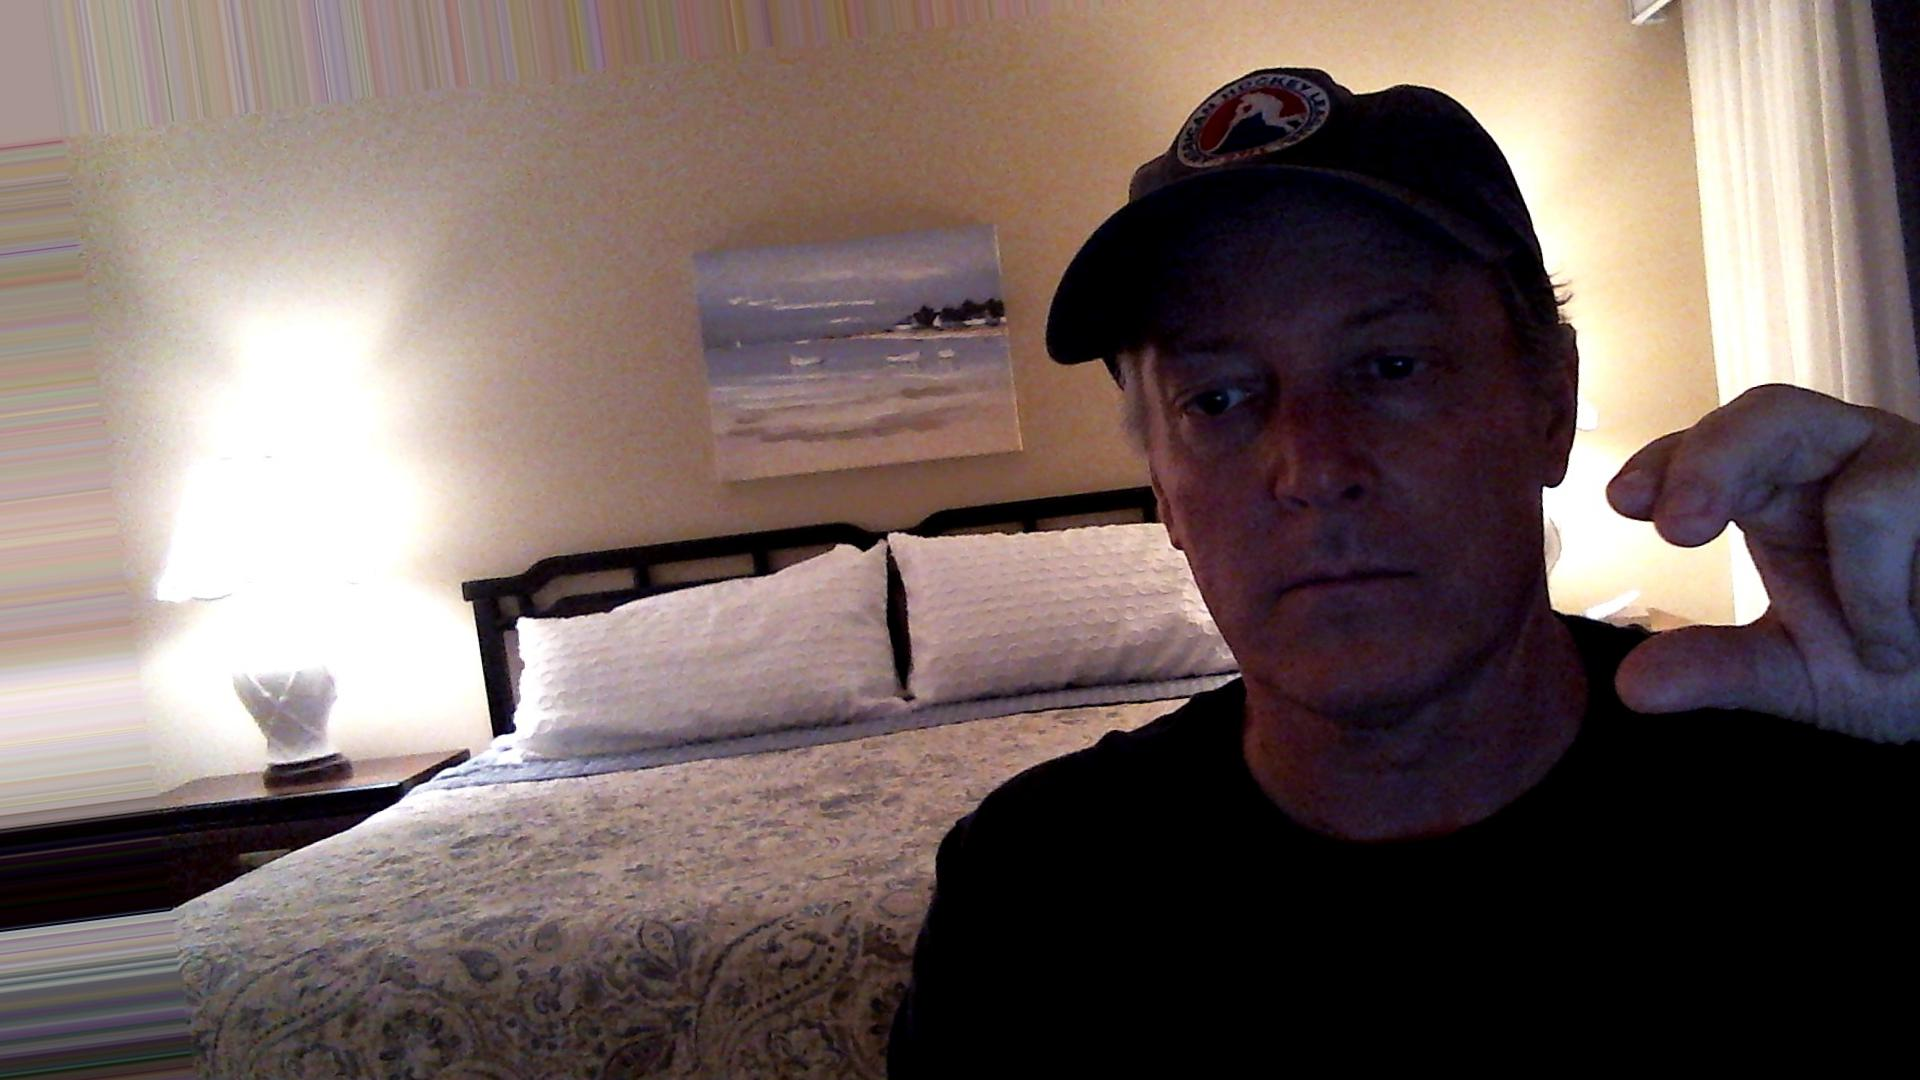No: (1563, 352, 1920, 782)
